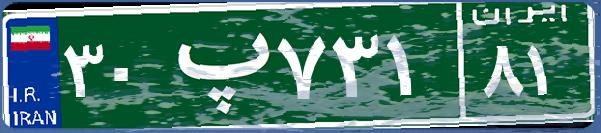0: (110, 28, 158, 105)
1: (385, 28, 445, 110), (525, 38, 570, 115)
3: (330, 28, 385, 110), (57, 26, 110, 107)
7: (273, 28, 330, 110)
8: (475, 38, 525, 113)
پ: (158, 15, 273, 115)
